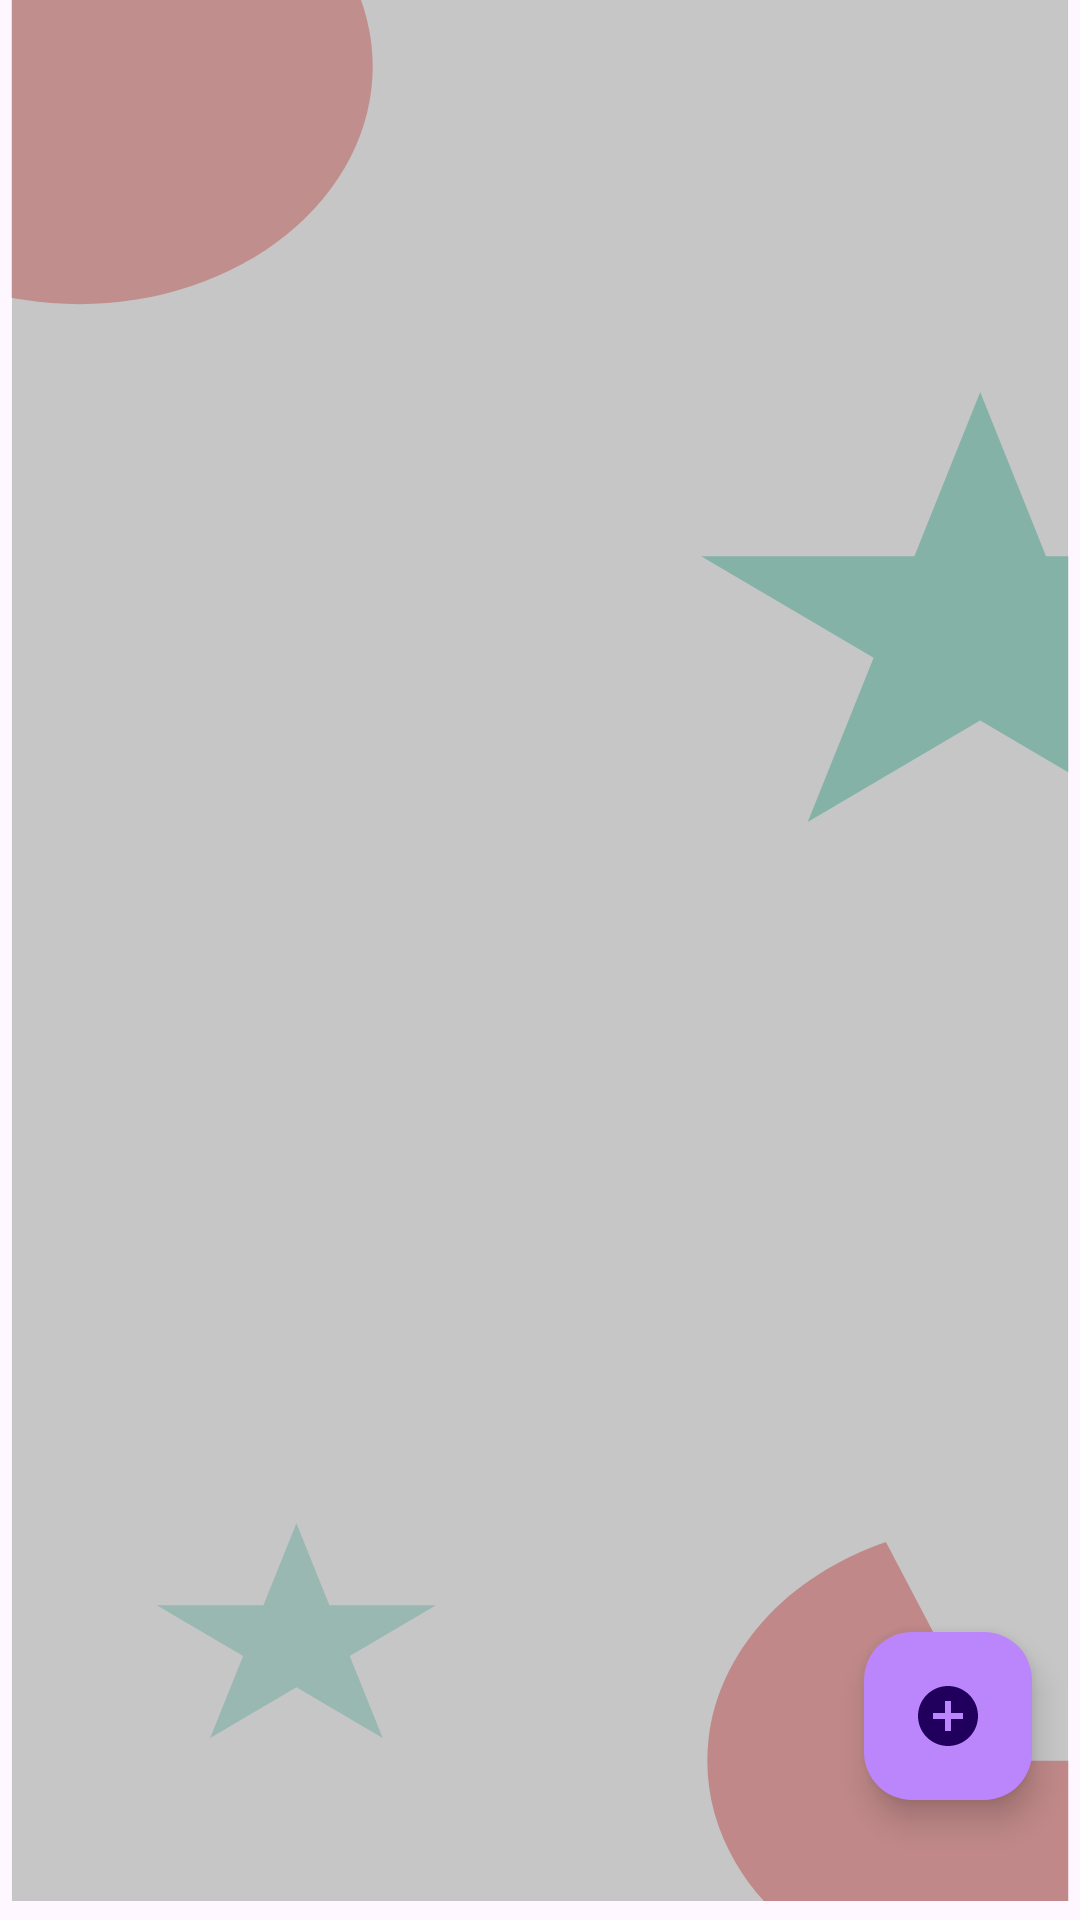

Screen size 1080px x 1920px. Icon name, then its center in pixels as [x,y]:
add circle: [948,1716]
